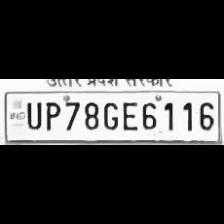1: (177, 98, 195, 132), (160, 98, 176, 132)
6: (194, 99, 216, 131), (138, 99, 158, 131)
7: (60, 98, 80, 132)
8: (80, 98, 100, 132)
E: (119, 99, 138, 131)
G: (101, 99, 119, 131)
P: (41, 97, 61, 130)
U: (23, 97, 43, 130)
